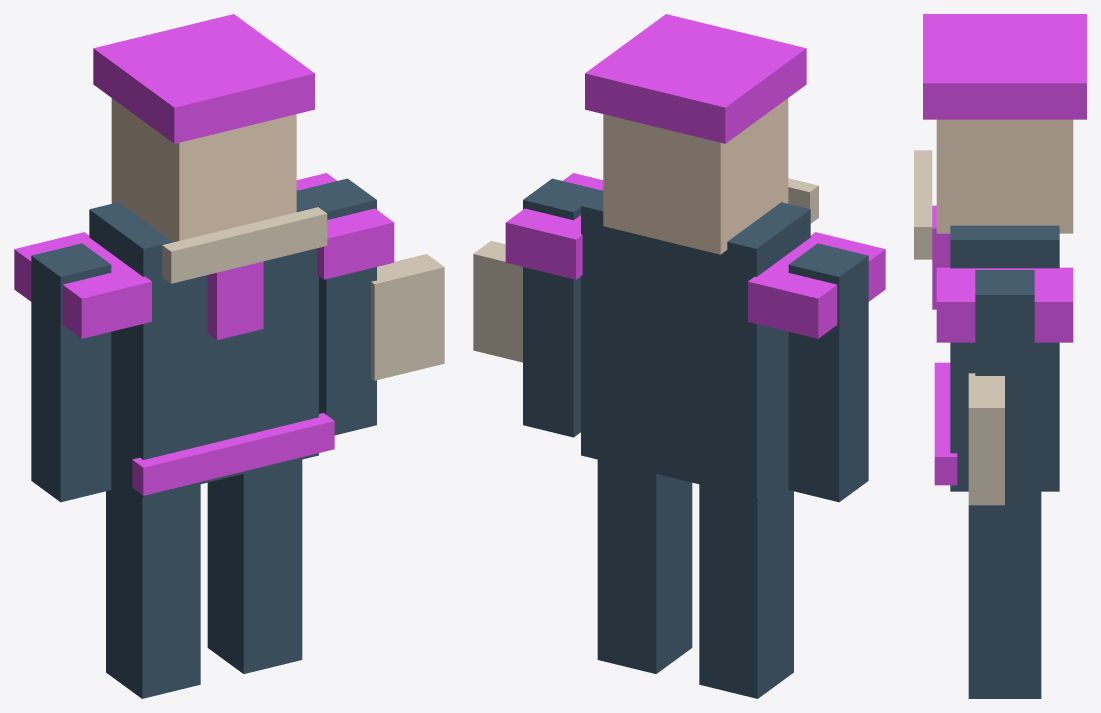
The model's file is 07_noor_cinderholt_guide_under_static.glb.
3 views of the same model, side by side, from view 1: azimuth 30°, elevation 25°; view 2: azimuth 150°, elevation 25°; view 3: azimuth 270°, elevation 25° (orthographic).
Parts seen in each view (by area): view 1: Noor Cinderholt, Guide under Static; view 2: Noor Cinderholt, Guide under Static; view 3: Noor Cinderholt, Guide under Static.
Boxes of the visible parts, <box> form: Noor Cinderholt, Guide under Static: <box>14,14,444,698</box>; Noor Cinderholt, Guide under Static: <box>473,14,885,698</box>; Noor Cinderholt, Guide under Static: <box>914,14,1086,698</box>.
Size of the model in its own units: 0.9896 by 1.5 by 0.3857.
